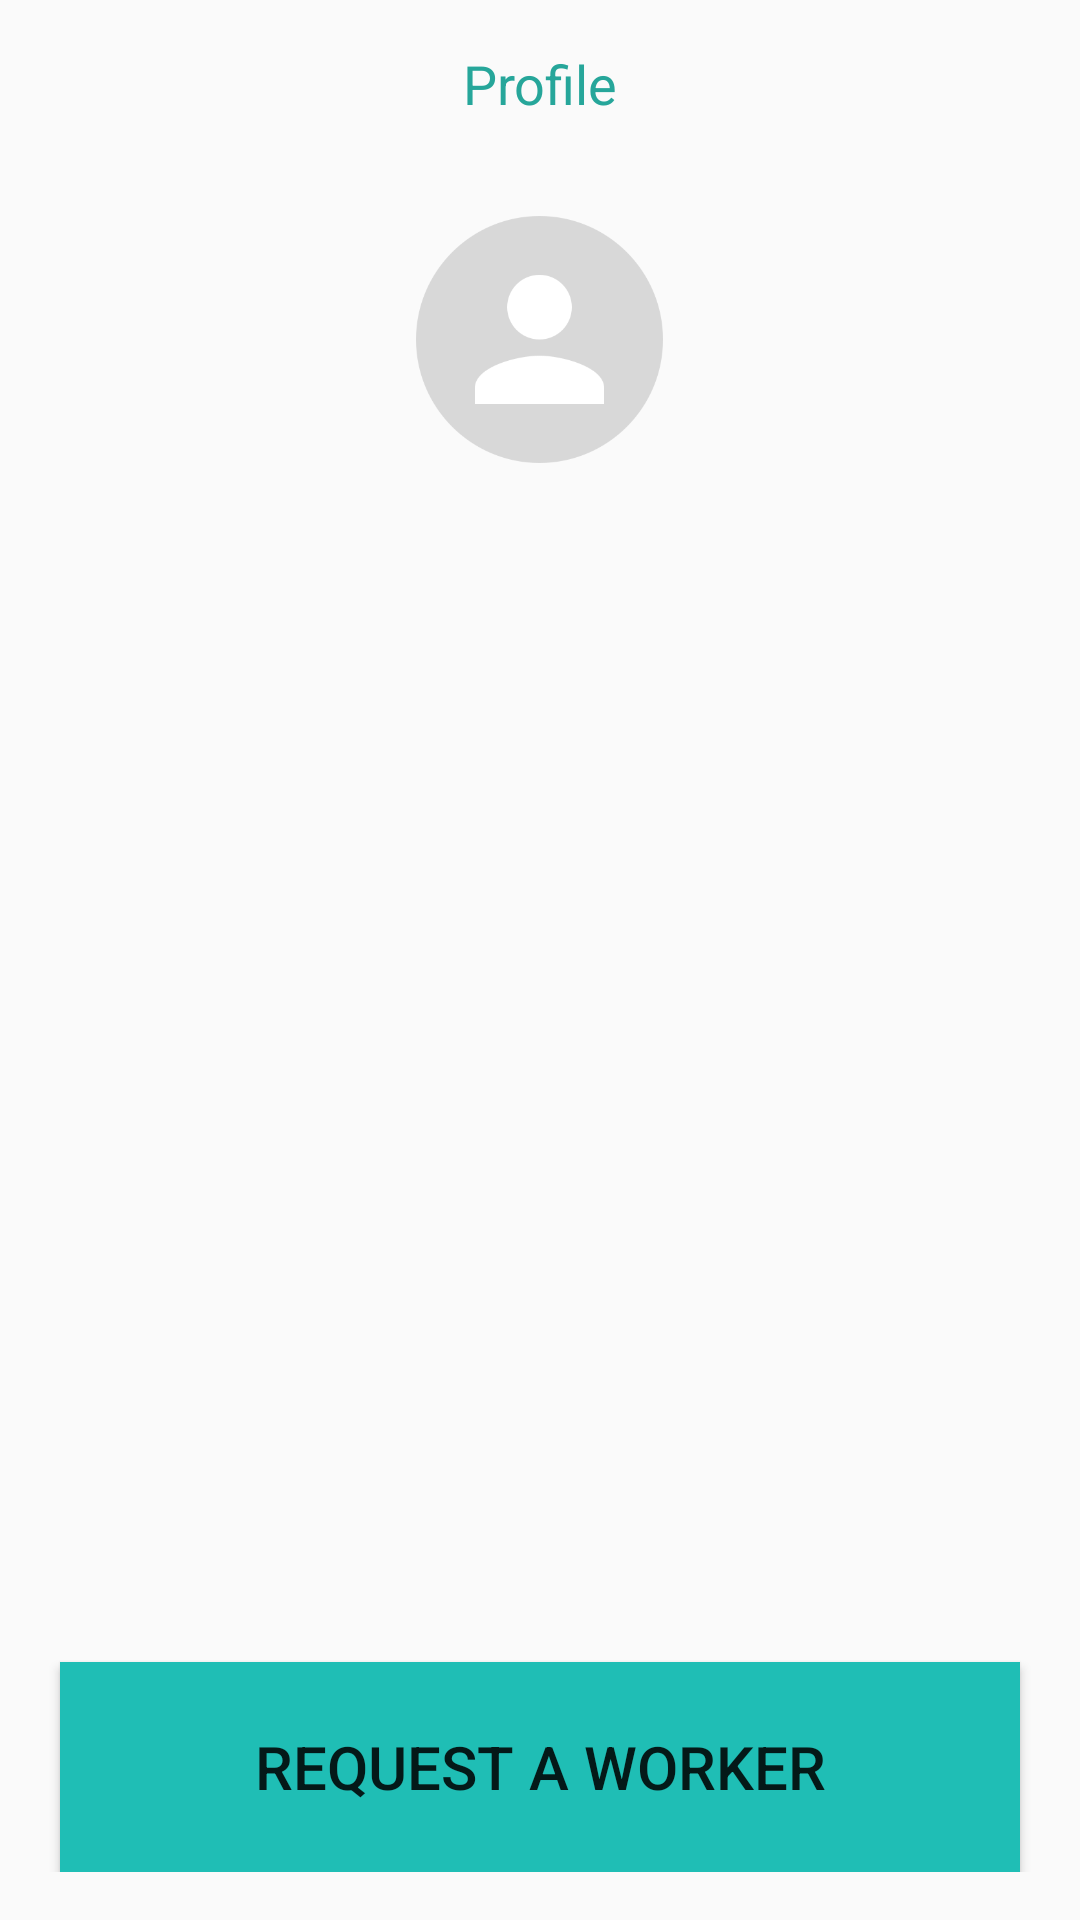

Icon click points for this 1080x1920 phone screenshot, format [x,y]:
no picture: [539,339]
